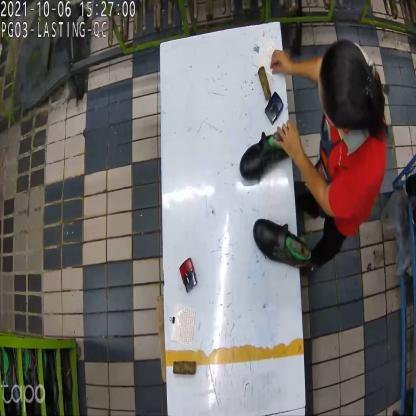shoes: (240, 134, 314, 270)
stamp: (264, 90, 286, 124), (182, 257, 199, 295)
